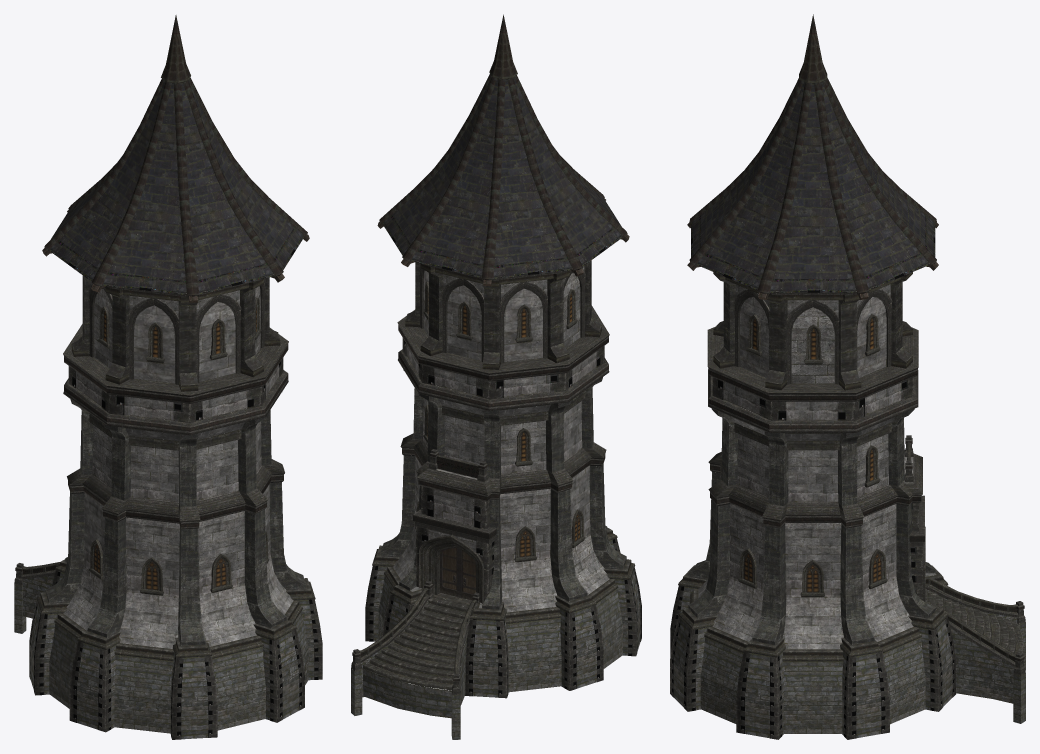
The model's file is eso_gu11_StoneTower1-transformed.glb.
3 renders of one model, left to right at view 1: azimuth 30°, elevation 25°; view 2: azimuth 150°, elevation 25°; view 3: azimuth 270°, elevation 25°, orthographic. The views are drawn at different scales.
Visible parts, largest first — view 1: default; view 2: default; view 3: default.
Part boxes in pixels (x1,y1,x2,y2): default: (14,15,322,739); default: (351,14,641,739); default: (670,14,1025,739).
Bounding box in the file's own units: 24.8 × 65.18 × 30.83.
Materials: 10 (10 with a texture image).
